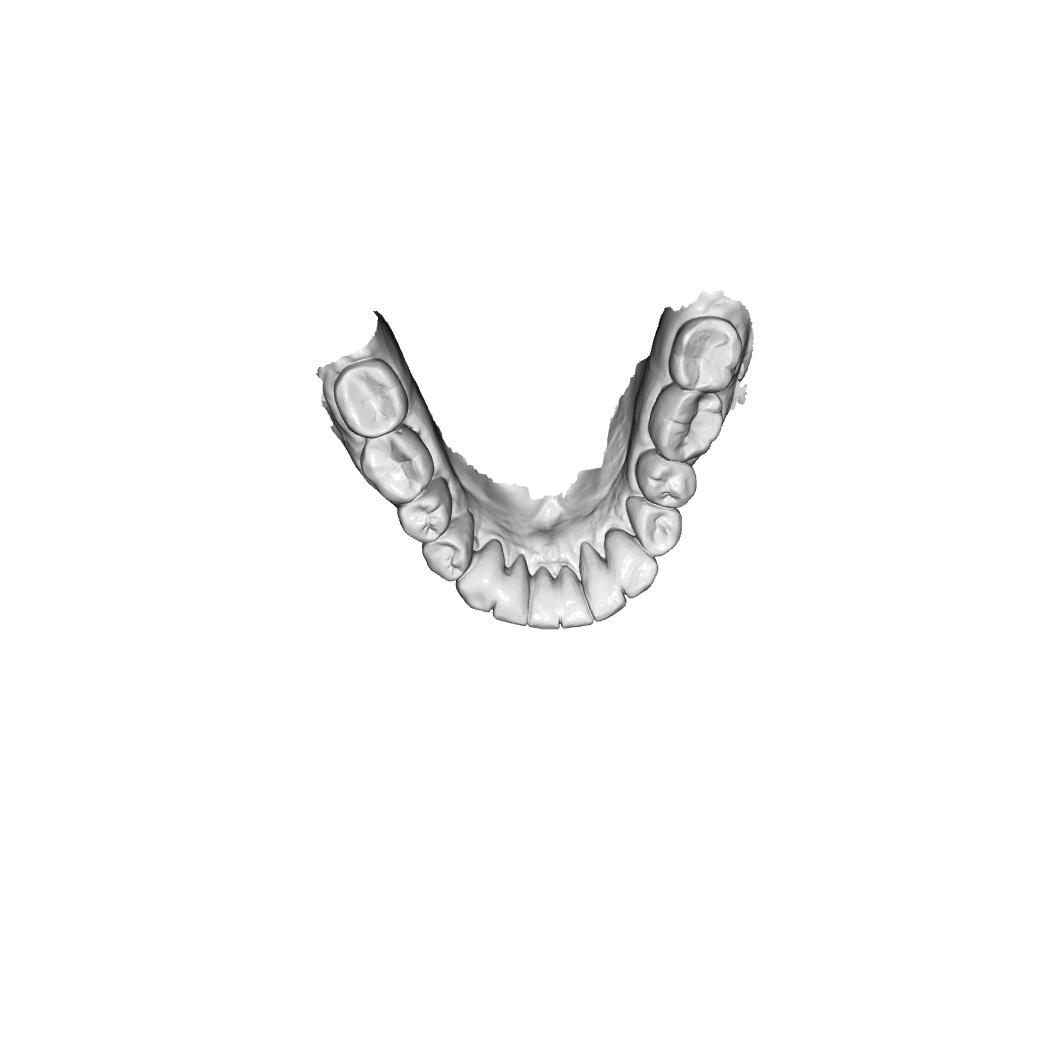canine: (604, 527, 659, 599), (455, 539, 506, 613)
incisor: (579, 541, 627, 623), (491, 553, 531, 627), (558, 564, 594, 629), (527, 565, 561, 630)
molar: (331, 356, 410, 440), (647, 381, 725, 463), (359, 423, 435, 505), (667, 316, 743, 394)
premolar: (420, 509, 475, 583), (396, 475, 453, 545), (634, 448, 698, 509), (625, 495, 683, 557)
